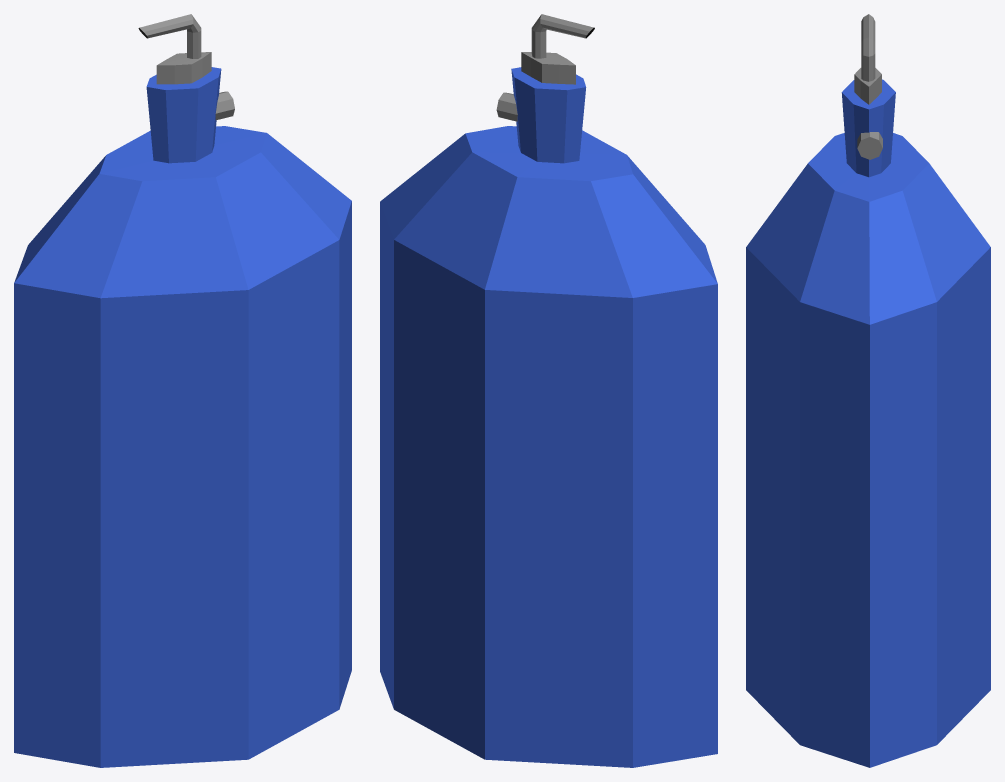
The model's file is nitro.fbx.
The picture shows the model from 3 angles, left to right: view 1: azimuth 30°, elevation 25°; view 2: azimuth 150°, elevation 25°; view 3: azimuth 270°, elevation 25°; orthographic projection. The views are drawn at different scales.
Visible parts, largest first — view 1: nitro; view 2: nitro; view 3: nitro.
Part boxes in pixels (x1,y1,x2,y2): nitro: (14,14,351,767); nitro: (380,14,717,767); nitro: (746,14,990,767).
Bounding box in the file's own units: 28.84 × 56.8 × 19.18.
